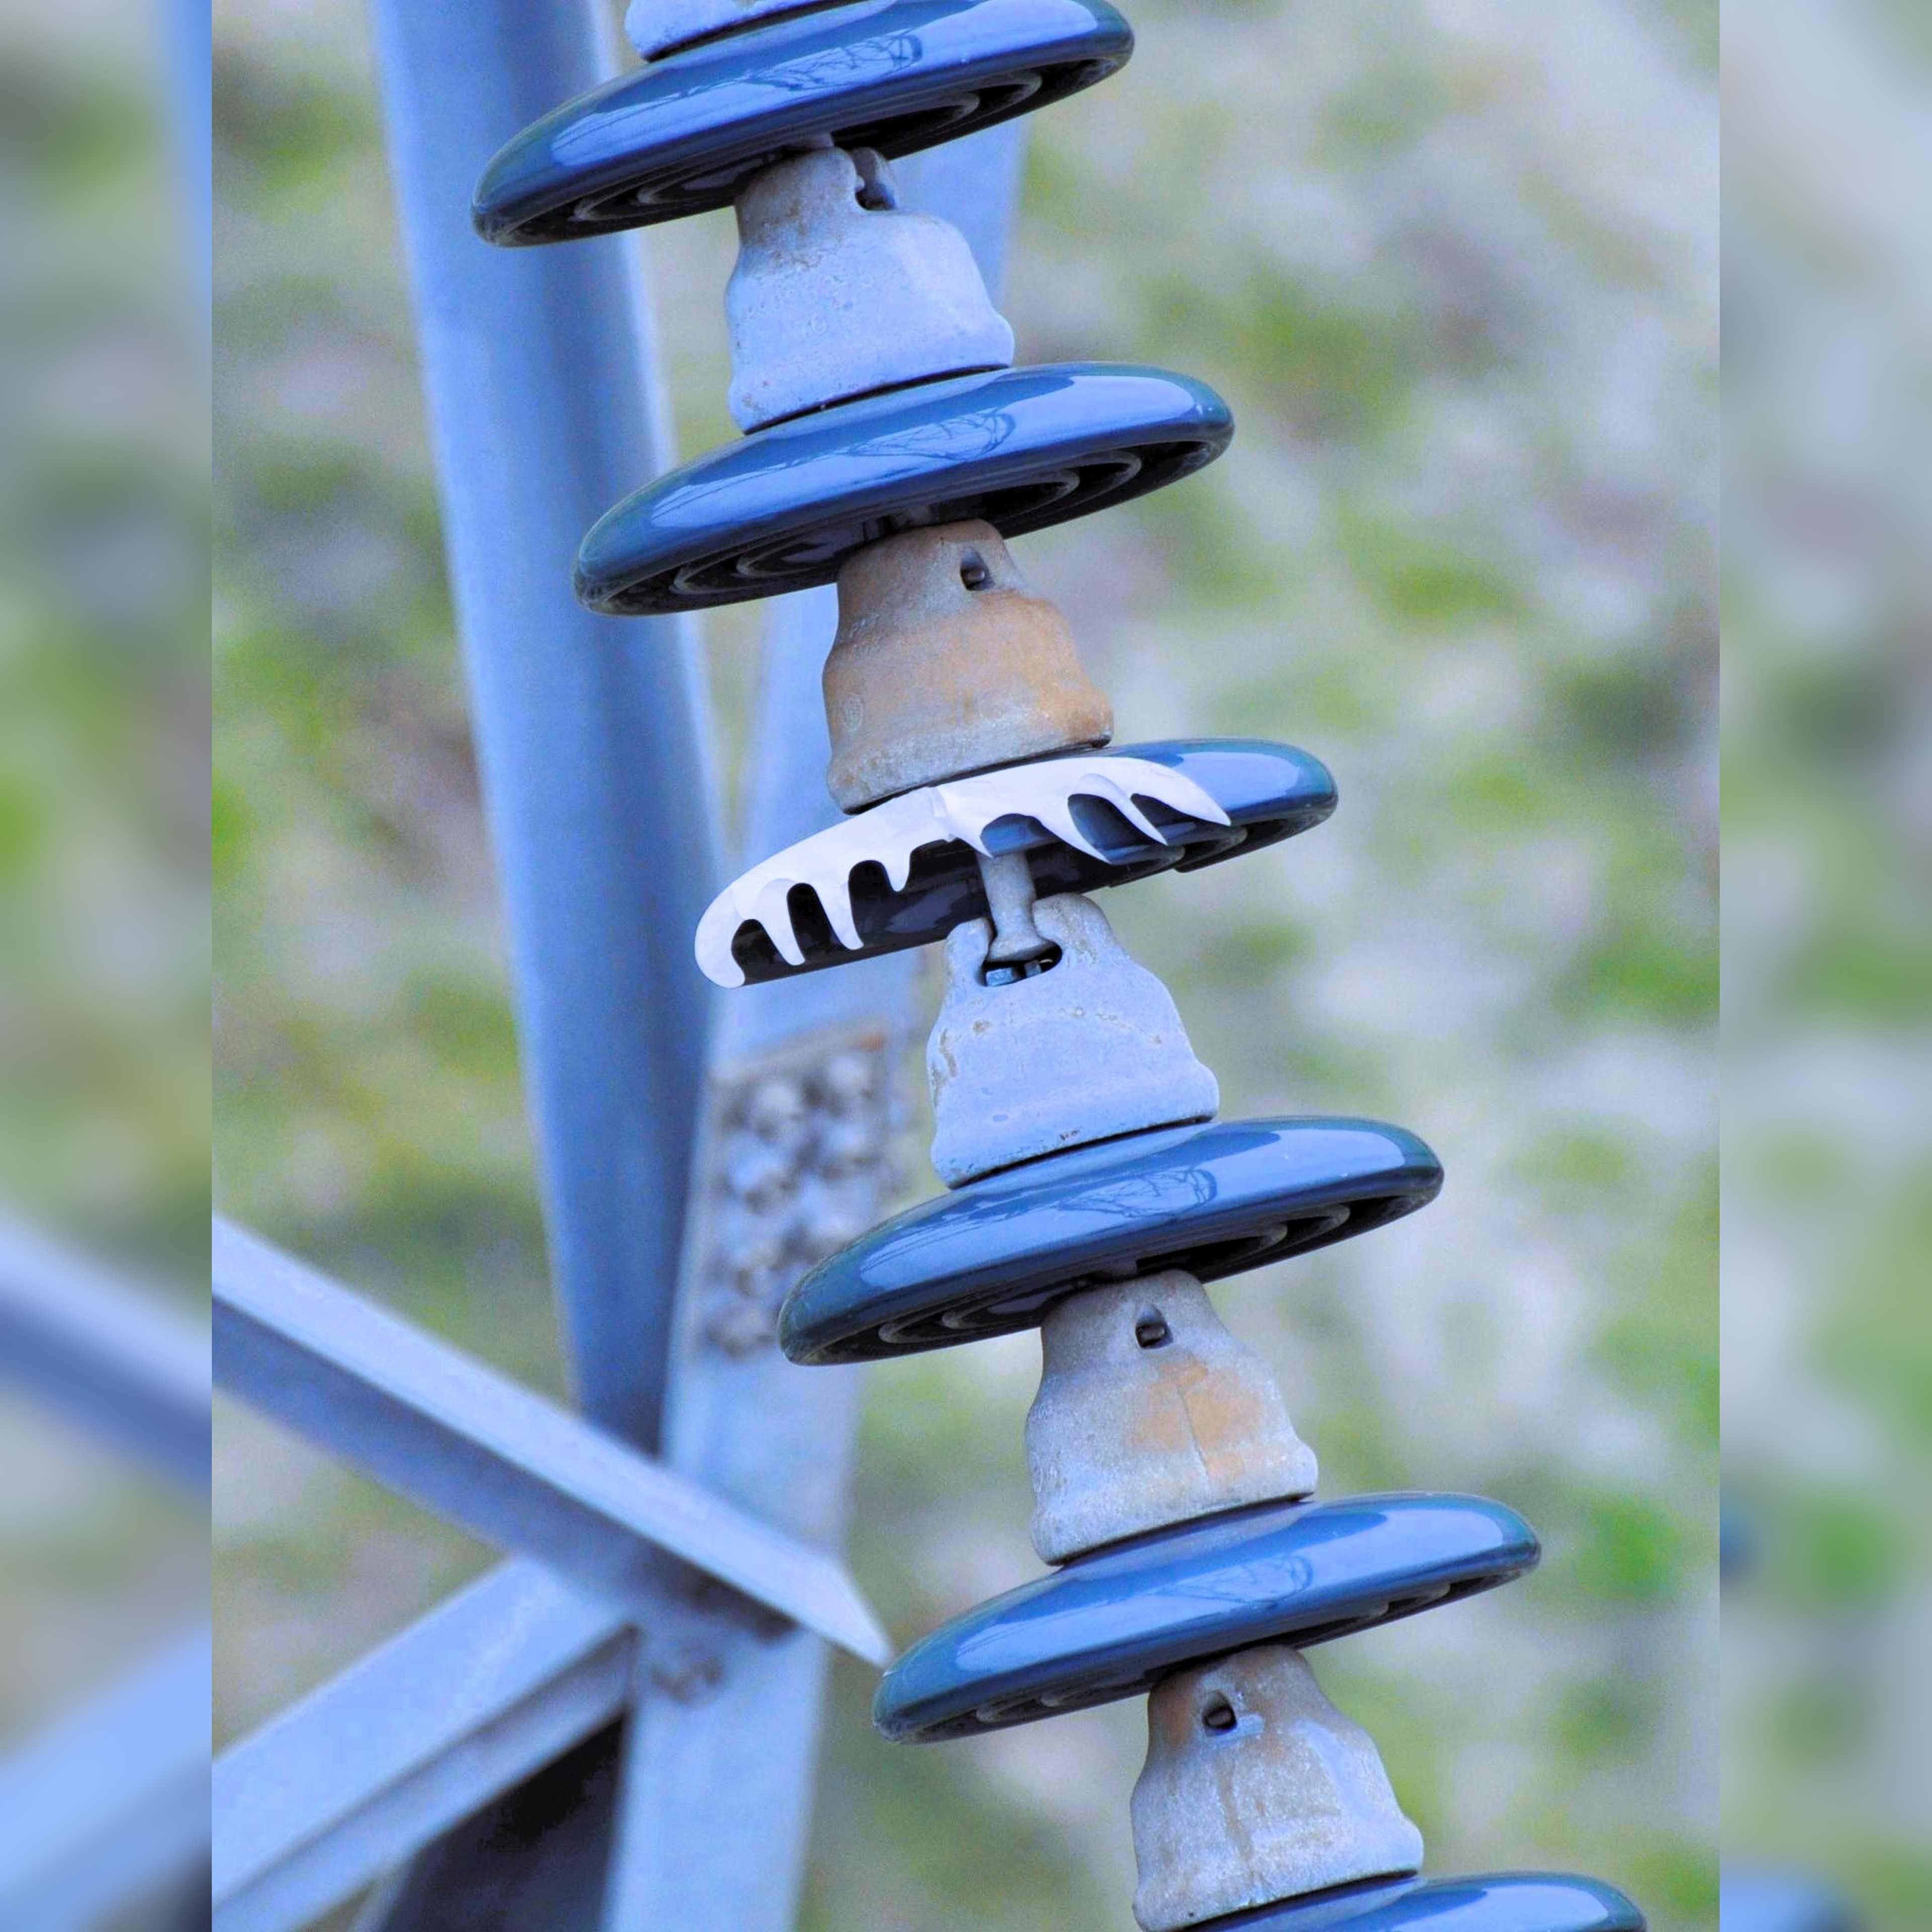insulator breakage: (656, 715, 1357, 1037)
